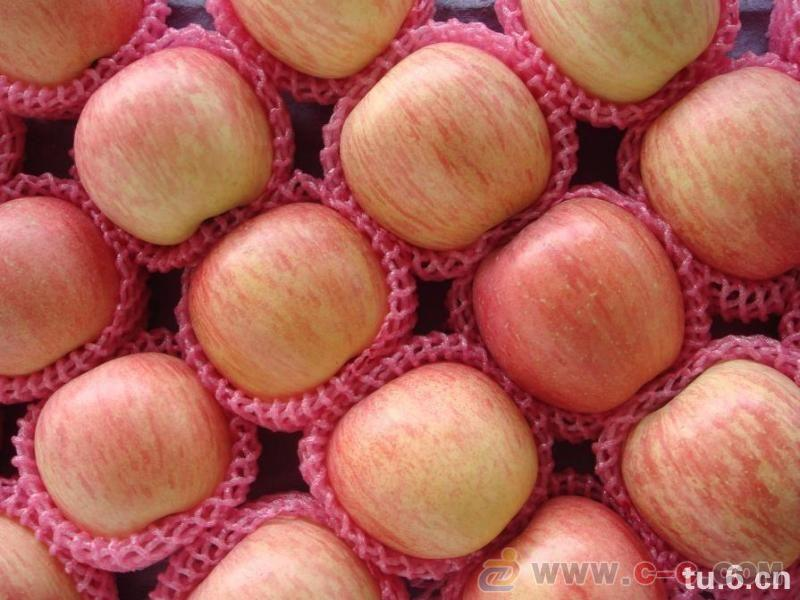apple: (339, 35, 555, 255), (471, 200, 683, 416), (319, 361, 542, 560), (618, 352, 797, 588), (77, 38, 278, 242), (183, 199, 384, 401), (28, 353, 238, 537), (635, 62, 798, 280), (1, 198, 118, 400)
